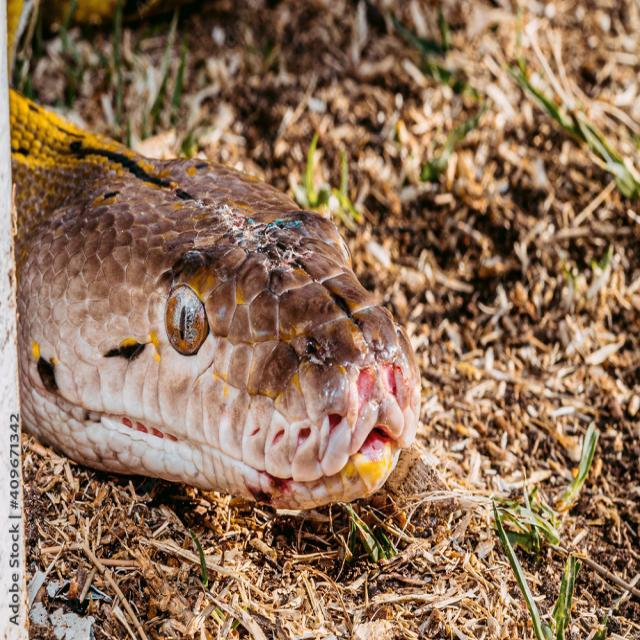Snake: (0, 0, 483, 521)
